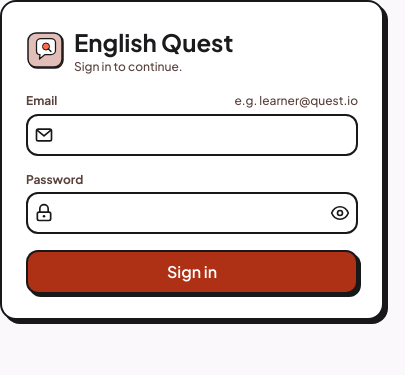
Scenario: LoginForm › shows_generic_error_and_clears_password
The width and height of the screenshot is (405, 375).
Type "user@example.com" into the field labelled "Email".
click(192, 135); type("user@example.com")  # box top-left (26, 114), bottom-right (358, 156)
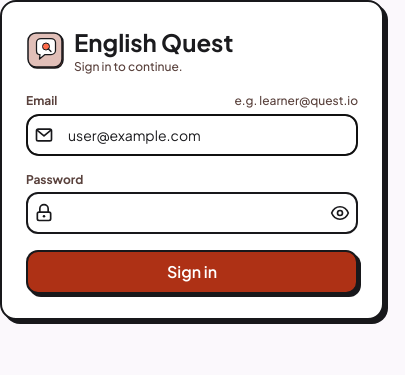
Type "wrong password" into the password field labelled "Password".
click(192, 213); type("wrong password")  # box top-left (26, 192), bottom-right (358, 234)
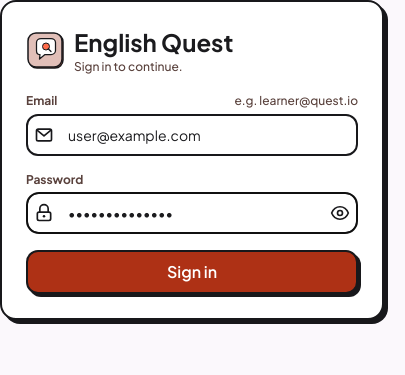
Click the button "Sign in".
click(192, 272)  # box top-left (26, 250), bottom-right (358, 294)
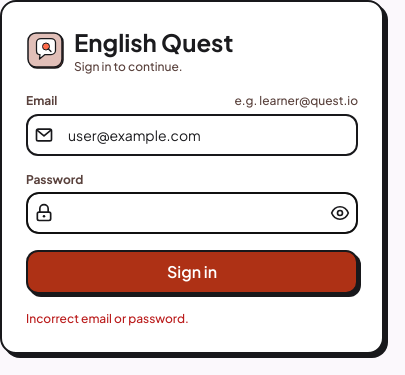
Now the message reads "Incorrect email or password.", box top-left (26, 311), bottom-right (189, 326)
Now the password field labelled "Password" is empty, box top-left (26, 192), bottom-right (358, 234)
